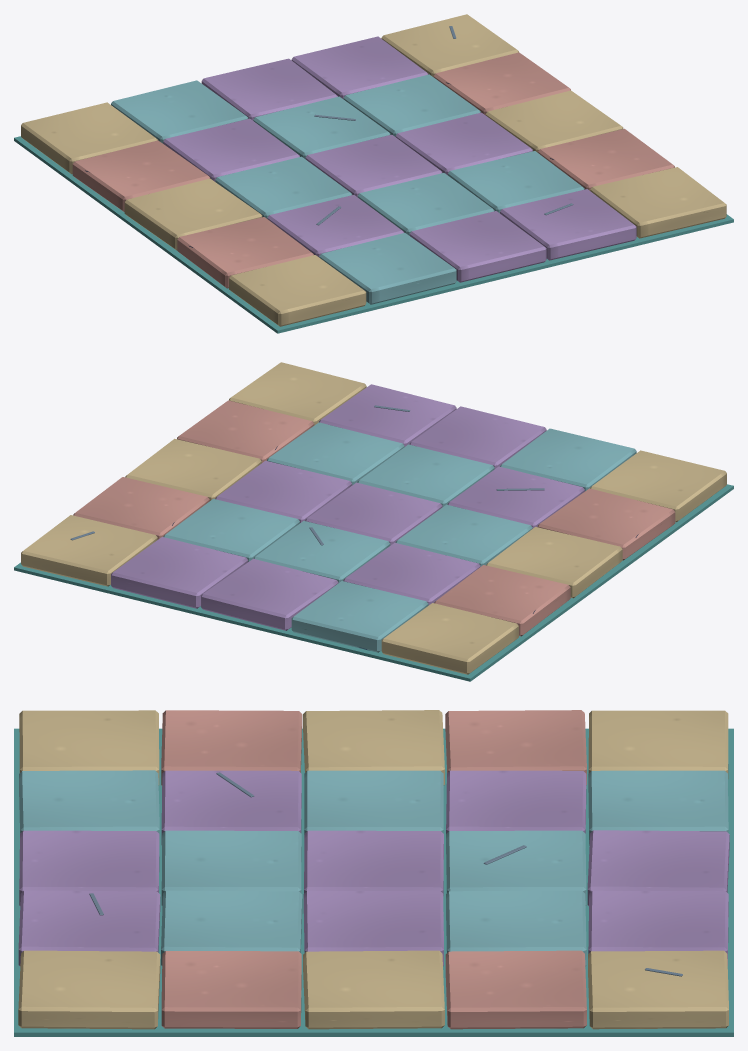
Rendered from floor_cute_cracked_3p9.glb.
The picture shows the model from 3 angles, top to bottom: view 1: azimuth 30°, elevation 25°; view 2: azimuth 150°, elevation 25°; view 3: azimuth 270°, elevation 25°; orthographic projection. The views are drawn at different scales.
Parts seen in each view (by area): view 1: CUTE_CRACKED_Tile_0_0, CUTE_CRACKED_Tile_4_0, CUTE_CRACKED_Tile_1_0, CUTE_CRACKED_Tile_2_0, CUTE_CRACKED_Tile_3_0, CUTE_CRACKED_Grout, CUTE_CRACKED_Tile_0_2, CUTE_CRACKED_Tile_0_3, CUTE_CRACKED_Tile_0_4, CUTE_CRACKED_Tile_0_1, CUTE_CRACKED_Tile_1_4, CUTE_CRACKED_Tile_3_3 (+14 smaller); view 2: CUTE_CRACKED_Tile_0_4, CUTE_CRACKED_Tile_1_4, CUTE_CRACKED_Tile_2_4, CUTE_CRACKED_Tile_3_4, CUTE_CRACKED_Tile_4_4, CUTE_CRACKED_Grout, CUTE_CRACKED_Tile_0_1, CUTE_CRACKED_Tile_0_0, CUTE_CRACKED_Tile_0_2, CUTE_CRACKED_Tile_0_3, CUTE_CRACKED_Tile_1_2, CUTE_CRACKED_Tile_1_3 (+14 smaller); view 3: CUTE_CRACKED_Grout, CUTE_CRACKED_Tile_4_0, CUTE_CRACKED_Tile_4_2, CUTE_CRACKED_Tile_4_3, CUTE_CRACKED_Tile_4_1, CUTE_CRACKED_Tile_4_4, CUTE_CRACKED_Tile_1_4, CUTE_CRACKED_Tile_0_0, CUTE_CRACKED_Tile_0_1, CUTE_CRACKED_Tile_0_4, CUTE_CRACKED_Tile_0_2, CUTE_CRACKED_Tile_2_0 (+14 smaller).
Boxes of the visible parts, x1,y1,x2,y2 form: CUTE_CRACKED_Tile_0_0: [229, 255, 366, 326]; CUTE_CRACKED_Tile_4_0: [590, 167, 726, 238]; CUTE_CRACKED_Tile_1_0: [319, 233, 456, 304]; CUTE_CRACKED_Tile_2_0: [409, 211, 546, 282]; CUTE_CRACKED_Tile_3_0: [500, 189, 636, 260]; CUTE_CRACKED_Grout: [14, 136, 733, 333]; CUTE_CRACKED_Tile_0_2: [124, 178, 262, 250]; CUTE_CRACKED_Tile_0_3: [72, 140, 210, 211]; CUTE_CRACKED_Tile_0_4: [21, 102, 157, 174]; CUTE_CRACKED_Tile_0_1: [177, 217, 313, 288]; CUTE_CRACKED_Tile_1_4: [111, 80, 248, 143]; CUTE_CRACKED_Tile_3_3: [343, 74, 480, 136]; CUTE_CRACKED_Tile_0_4: [381, 603, 518, 674]; CUTE_CRACKED_Tile_1_4: [291, 581, 428, 652]; CUTE_CRACKED_Tile_2_4: [201, 558, 338, 630]; CUTE_CRACKED_Tile_3_4: [111, 537, 248, 608]; CUTE_CRACKED_Tile_4_4: [21, 515, 157, 586]; CUTE_CRACKED_Grout: [14, 484, 733, 681]; CUTE_CRACKED_Tile_0_1: [537, 488, 675, 560]; CUTE_CRACKED_Tile_0_0: [590, 450, 726, 522]; CUTE_CRACKED_Tile_0_2: [486, 527, 622, 598]; CUTE_CRACKED_Tile_0_3: [434, 565, 570, 636]; CUTE_CRACKED_Tile_1_2: [395, 504, 532, 566]; CUTE_CRACKED_Tile_1_3: [343, 543, 480, 605]; CUTE_CRACKED_Grout: [14, 728, 733, 1036]; CUTE_CRACKED_Tile_4_0: [18, 950, 160, 1029]; CUTE_CRACKED_Tile_4_2: [303, 950, 444, 1029]; CUTE_CRACKED_Tile_4_3: [445, 950, 586, 1029]; CUTE_CRACKED_Tile_4_1: [161, 951, 301, 1028]; CUTE_CRACKED_Tile_4_4: [588, 950, 728, 1029]; CUTE_CRACKED_Tile_1_4: [588, 770, 728, 845]; CUTE_CRACKED_Tile_0_0: [19, 710, 159, 785]; CUTE_CRACKED_Tile_0_1: [161, 710, 302, 785]; CUTE_CRACKED_Tile_0_4: [588, 710, 728, 778]; CUTE_CRACKED_Tile_0_2: [303, 710, 444, 785]; CUTE_CRACKED_Tile_2_0: [19, 830, 159, 905].
Size of the model in its own units: 3.95 by 0.2215 by 3.95.
Materials: 6 (4 with a texture image).
